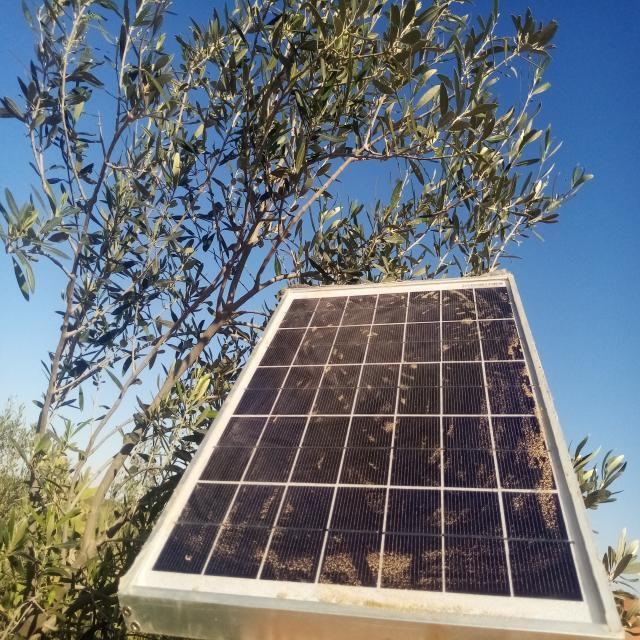faulty: (126, 275, 618, 628)
